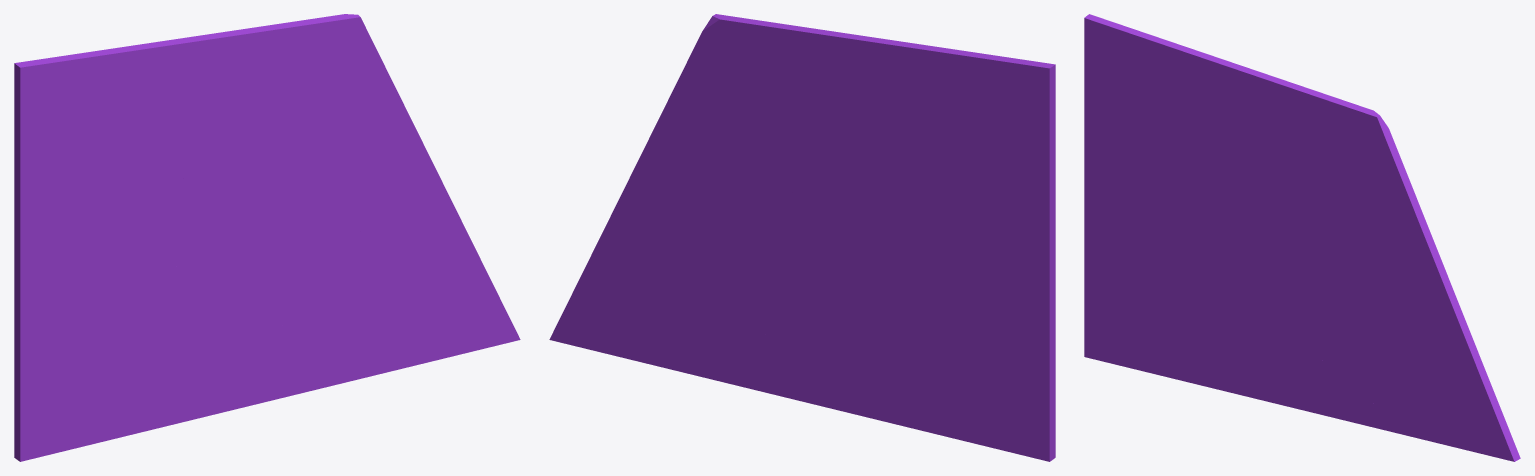
File: Window_38_0_chunks.fbx
The picture shows the model from 3 angles, left to right: view 1: azimuth 30°, elevation 25°; view 2: azimuth 150°, elevation 25°; view 3: azimuth 330°, elevation 25°; orthographic projection. The views are drawn at different scales.
Visible parts, largest first — view 1: Window_38_0_17, Window_38_0_10, Window_38_0_0, Window_38_0_5, Window_38_0_21, Window_38_0_20, Window_38_0_9, Window_38_0_6, Window_38_0_18, Window_38_0_30, Window_38_0_27, Window_38_0_25 (+14 smaller); view 2: Window_38_0_10, Window_38_0_17, Window_38_0_5, Window_38_0_0, Window_38_0_9, Window_38_0_21, Window_38_0_20, Window_38_0_18, Window_38_0_23, Window_38_0_16, Window_38_0_30, Window_38_0_6 (+14 smaller); view 3: Window_38_0_17, Window_38_0_5, Window_38_0_10, Window_38_0_0, Window_38_0_21, Window_38_0_20, Window_38_0_9, Window_38_0_6, Window_38_0_25, Window_38_0_18, Window_38_0_30, Window_38_0_27 (+14 smaller).
Part boxes in pixels (x1,y1,x2,y2): Window_38_0_17: [14, 292, 189, 461]; Window_38_0_10: [14, 62, 158, 237]; Window_38_0_0: [14, 209, 130, 411]; Window_38_0_5: [264, 14, 399, 154]; Window_38_0_21: [264, 191, 365, 347]; Window_38_0_20: [345, 286, 519, 368]; Window_38_0_9: [176, 22, 292, 187]; Window_38_0_6: [256, 139, 370, 244]; Window_38_0_18: [171, 188, 265, 307]; Window_38_0_30: [17, 42, 159, 117]; Window_38_0_27: [155, 22, 292, 92]; Window_38_0_25: [425, 206, 520, 339]; Window_38_0_10: [902, 66, 1055, 243]; Window_38_0_17: [890, 311, 1055, 461]; Window_38_0_5: [666, 14, 802, 161]; Window_38_0_0: [935, 221, 1055, 406]; Window_38_0_9: [773, 26, 904, 209]; Window_38_0_21: [711, 185, 806, 348]; Window_38_0_20: [549, 283, 727, 369]; Window_38_0_18: [805, 181, 893, 302]; Window_38_0_23: [616, 151, 720, 233]; Window_38_0_16: [806, 286, 923, 416]; Window_38_0_30: [910, 44, 1055, 115]; Window_38_0_6: [710, 147, 811, 233]; Window_38_0_17: [1084, 265, 1230, 378]; Window_38_0_5: [1294, 95, 1419, 237]; Window_38_0_10: [1084, 14, 1202, 180]; Window_38_0_0: [1084, 152, 1179, 313]; Window_38_0_21: [1294, 227, 1380, 394]; Window_38_0_20: [1363, 364, 1520, 461]; Window_38_0_9: [1218, 94, 1327, 206]; Window_38_0_6: [1287, 181, 1385, 311]; Window_38_0_25: [1432, 315, 1517, 461]; Window_38_0_18: [1214, 223, 1295, 312]; Window_38_0_30: [1084, 15, 1209, 102]; Window_38_0_27: [1202, 55, 1324, 124].
Size of the model in its own units: 1343 by 1009 by 27.2.
